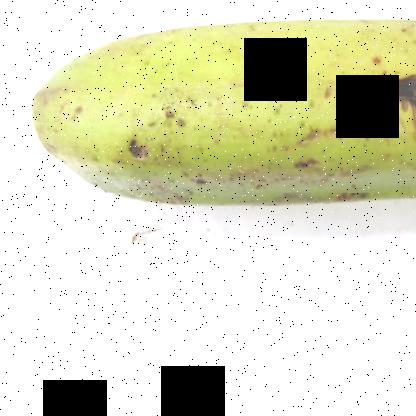rotten: (373, 8, 415, 207)
